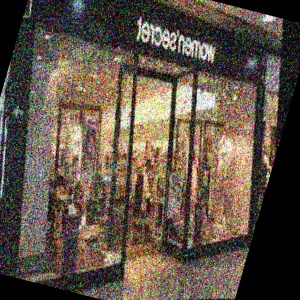women_secret: (171, 14, 282, 68)
